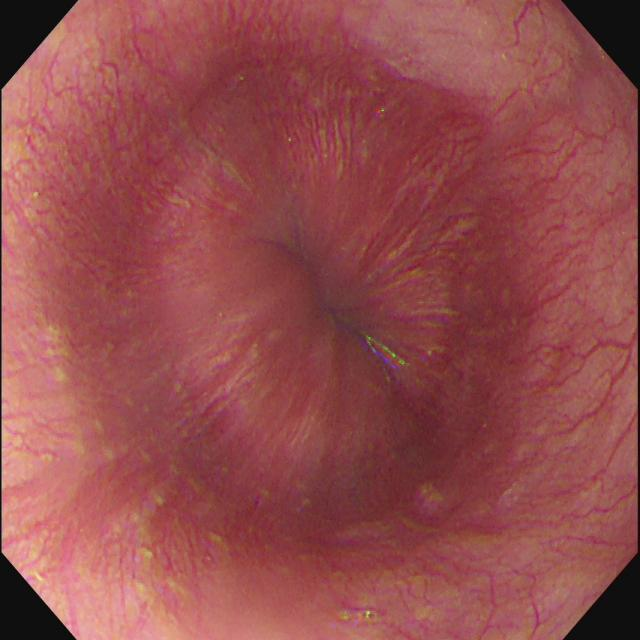I: (137, 49, 508, 533)
U: (364, 333, 409, 371)
